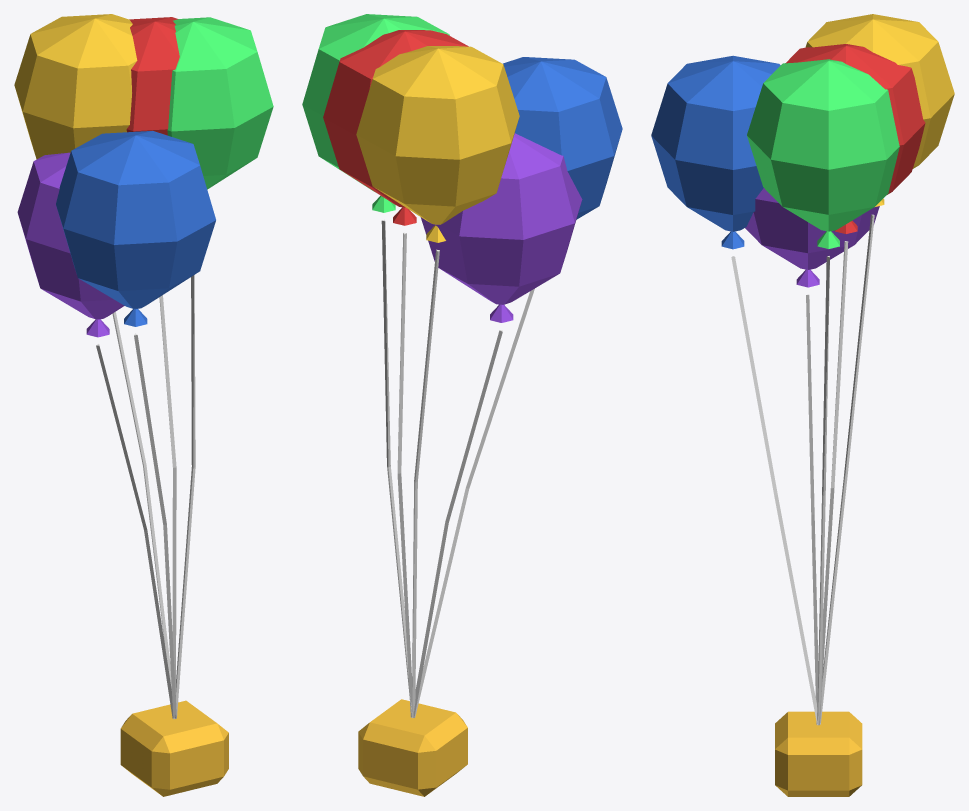
The model's file is BalloonBunch.fbx.
The picture shows the model from 3 angles, left to right: view 1: azimuth 30°, elevation 25°; view 2: azimuth 150°, elevation 25°; view 3: azimuth 270°, elevation 25°; orthographic projection. The views are drawn at different scales.
Parts seen in each view (by area): view 1: BalloonBunch; view 2: BalloonBunch; view 3: BalloonBunch.
Boxes of the visible parts, x1,y1,x2,y2 form: BalloonBunch: (14, 14, 273, 796); BalloonBunch: (302, 14, 622, 796); BalloonBunch: (651, 14, 954, 796).
Bounding box in the file's own units: 2.6 × 7.47 × 2.78.
Materials: 1 (1 with a texture image).
